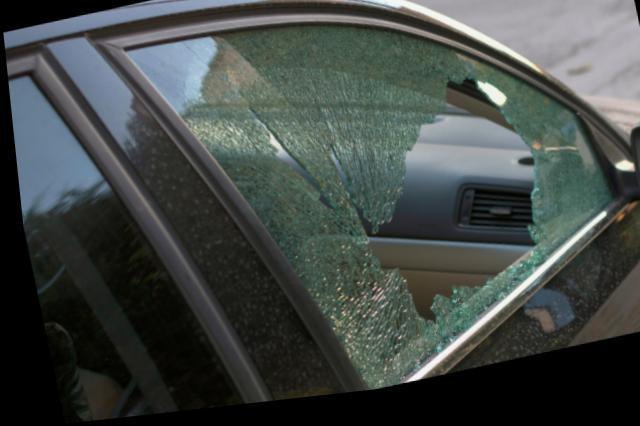glass shatter: (123, 33, 608, 398)
